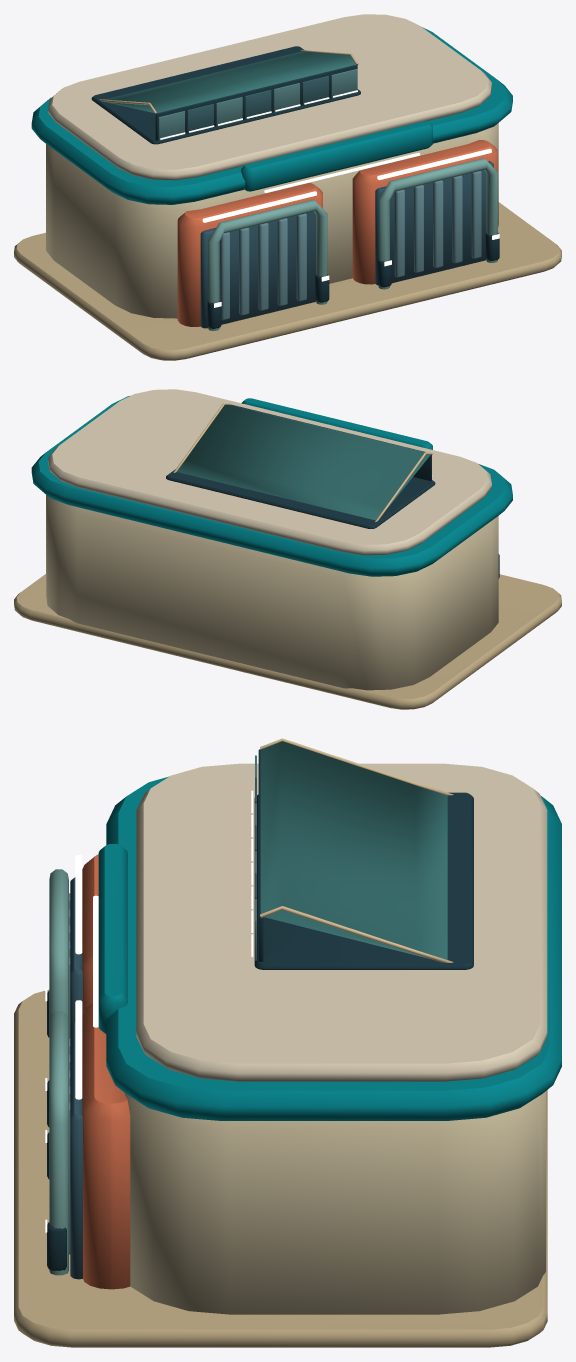
The model's file is ocean_wash.glb.
3 renders of one model, top to bottom at view 1: azimuth 30°, elevation 25°; view 2: azimuth 150°, elevation 25°; view 3: azimuth 270°, elevation 25°, orthographic. The views are drawn at different scales.
Parts seen in each view (by area): view 1: Wash; view 2: Wash; view 3: Wash.
Part boxes in pixels (left/top/right/bottom): Wash: left=14, top=14, right=561, bottom=360; Wash: left=14, top=389, right=561, bottom=709; Wash: left=14, top=738, right=561, bottom=1347.
Size of the model in its own units: 9.54 by 4.15 by 6.38.
